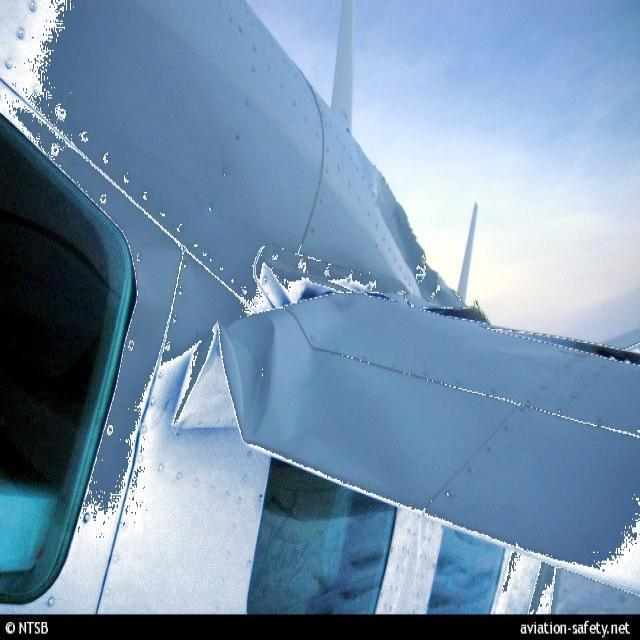dent: (166, 308, 280, 454)
